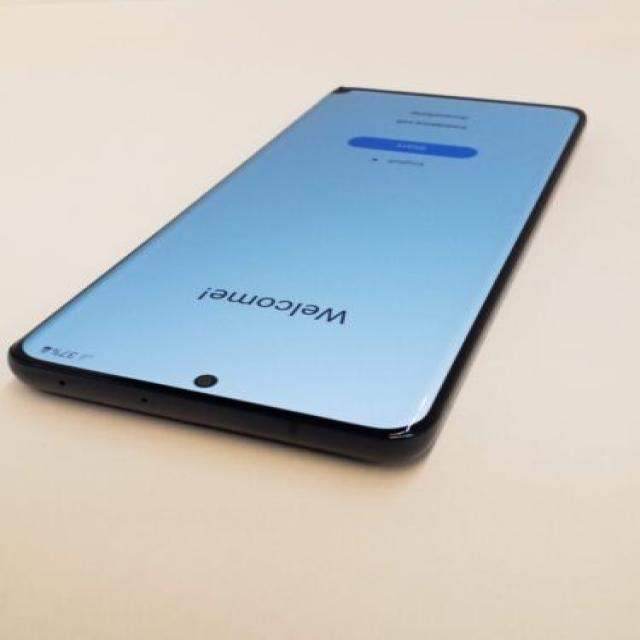dead pixel: (318, 75, 367, 108)
